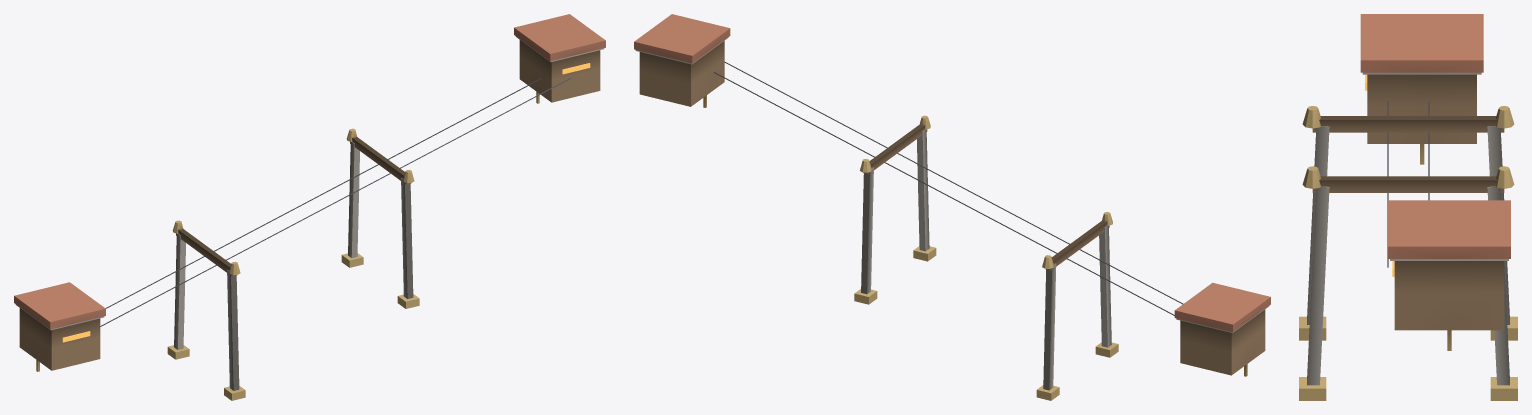
File: 07_cableway.glb
3 renders of one model, left to right at view 1: azimuth 30°, elevation 25°; view 2: azimuth 150°, elevation 25°; view 3: azimuth 270°, elevation 25°, orthographic. The views are drawn at different scales.
Parts seen in each view (by area): view 1: cableway_wood, cableway_rooftile, cableway_stone, cableway_iron_nocol, cableway_brass_nocol; view 2: cableway_wood, cableway_rooftile, cableway_stone, cableway_iron_nocol, cableway_brass_nocol; view 3: cableway_wood, cableway_rooftile, cableway_stone, cableway_brass_nocol, cableway_iron_nocol, cableway_brass.
Part boxes in pixels (bbox=[...]): cableway_wood: bbox=[19, 40, 600, 370]; cableway_rooftile: bbox=[14, 14, 605, 329]; cableway_stone: bbox=[15, 36, 604, 390]; cableway_iron_nocol: bbox=[100, 77, 571, 326]; cableway_brass_nocol: bbox=[167, 128, 419, 400]; cableway_wood: bbox=[639, 41, 1265, 375]; cableway_rooftile: bbox=[634, 14, 1270, 331]; cableway_stone: bbox=[635, 37, 1269, 390]; cableway_iron_nocol: bbox=[713, 61, 1183, 315]; cableway_brass_nocol: bbox=[854, 115, 1118, 400]; cableway_wood: bbox=[1312, 74, 1504, 330]; cableway_rooftile: bbox=[1360, 14, 1510, 258]; cableway_stone: bbox=[1307, 72, 1509, 385]; cableway_brass_nocol: bbox=[1299, 106, 1517, 400]; cableway_iron_nocol: bbox=[1387, 101, 1429, 267]; cableway_brass: bbox=[1420, 144, 1451, 350].
Size of the model in its own units: 162 by 67 by 32.
